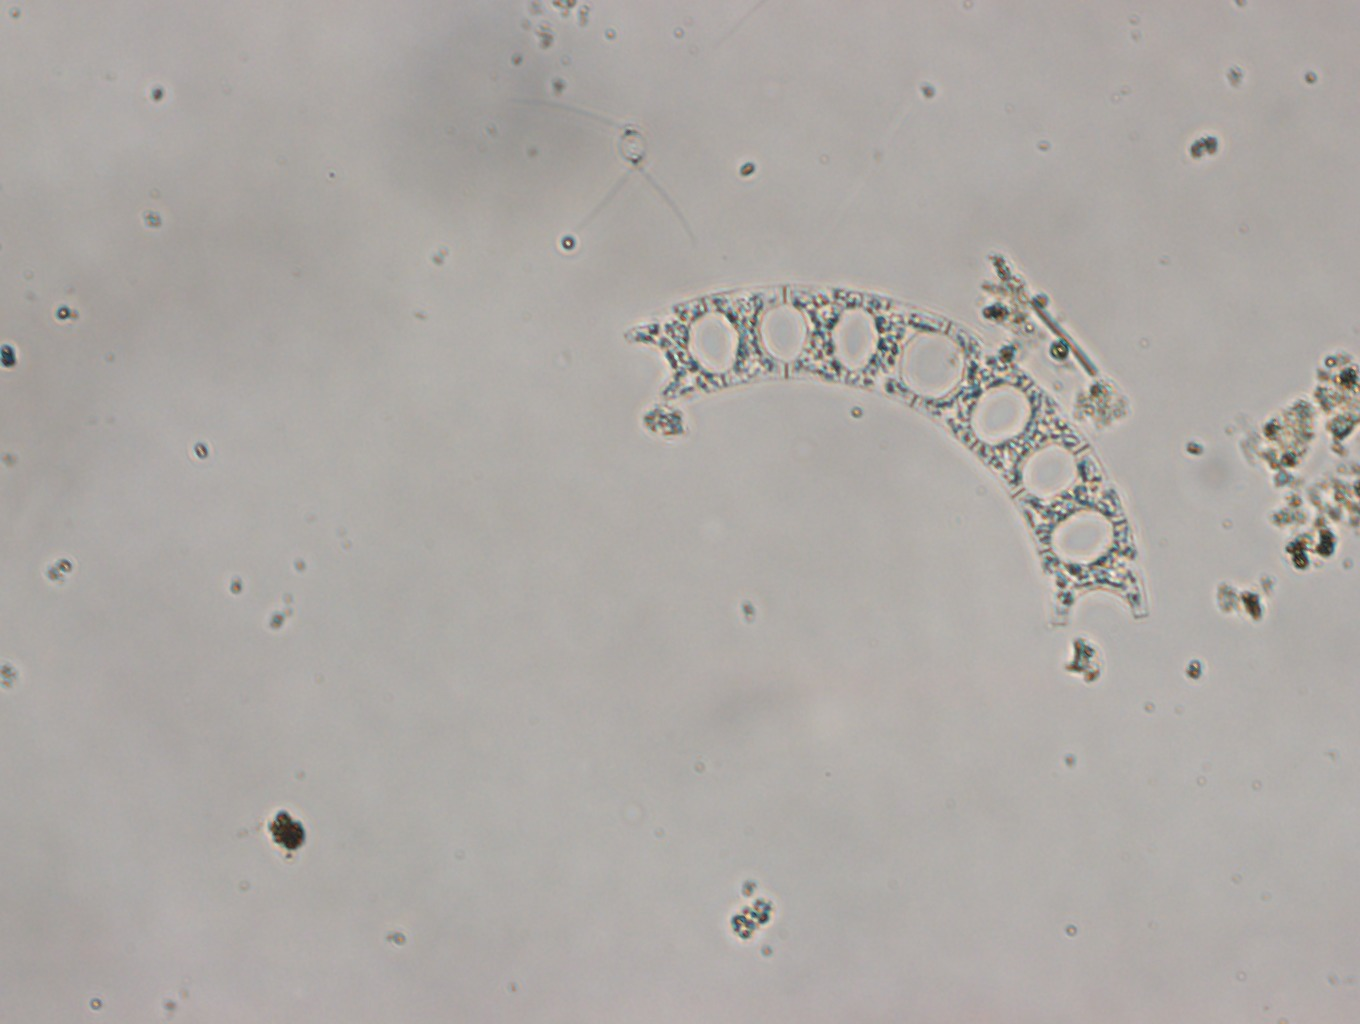chaetoceros: (513, 95, 703, 250)
eucampia: (624, 283, 1154, 631)
